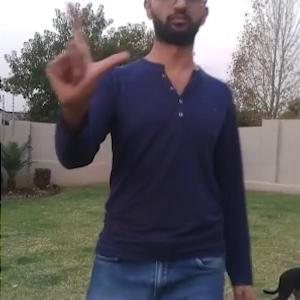land_hand: (41, 0, 133, 105)
